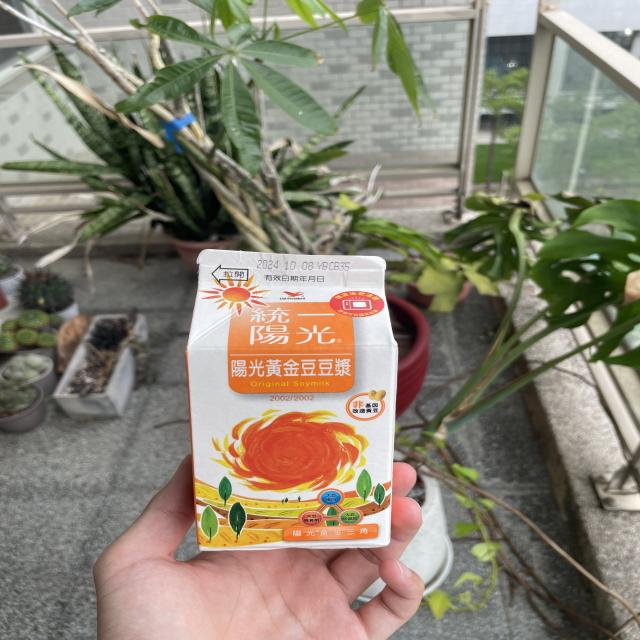TongYi_SoyMilk: (189, 246, 403, 548)
